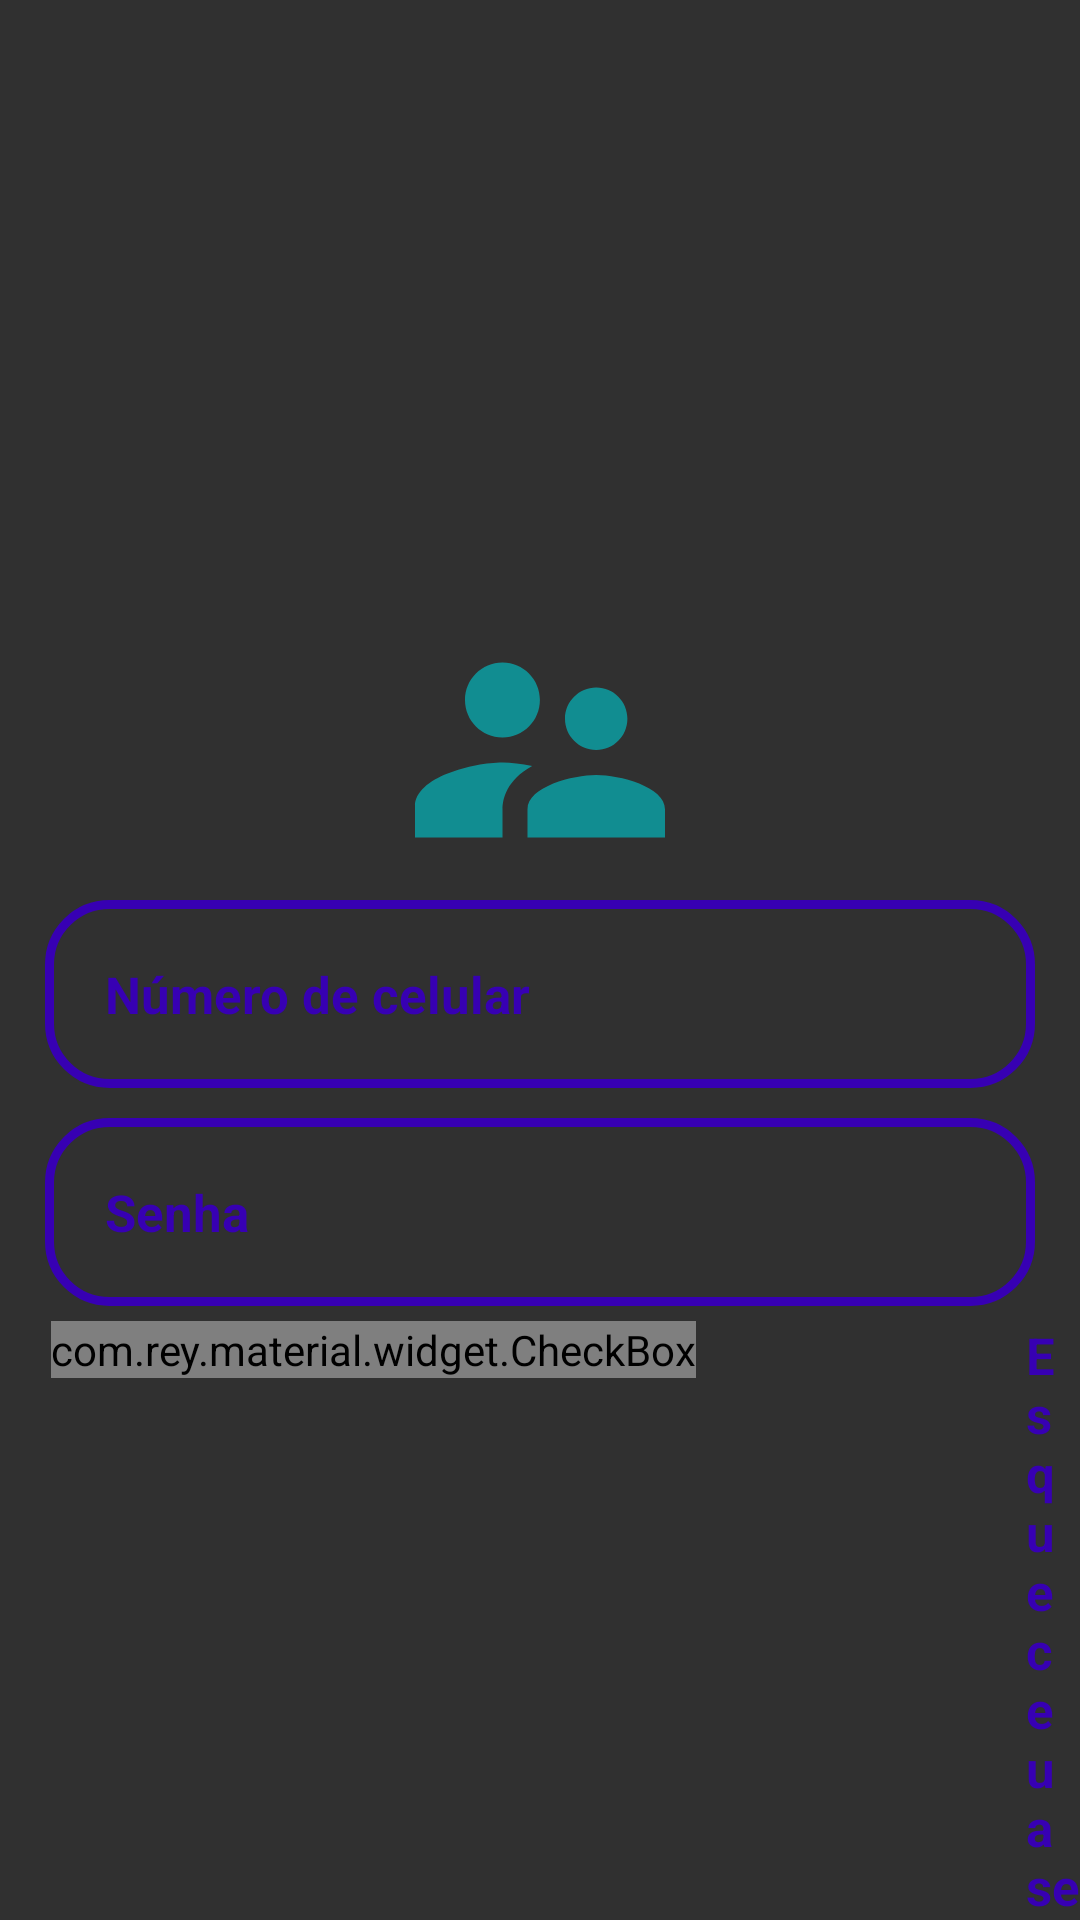

Named icons in this screenshot (1080×1920) and their bounding boxes, (x1, y1, x2, y2):
supervisor account: (415, 662, 665, 838)
